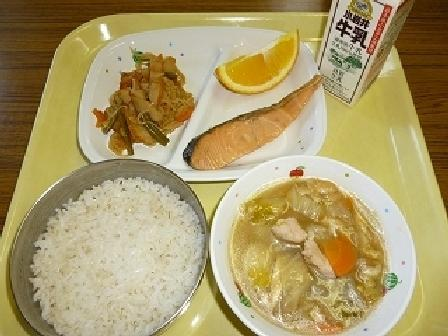Citrus: (210, 23, 312, 99)
Fish: (187, 88, 325, 174)
Milk: (310, 0, 417, 103)
Rice: (13, 167, 205, 335)
Soups: (209, 170, 412, 334)
vegetable based cooked food: (88, 55, 191, 150)
